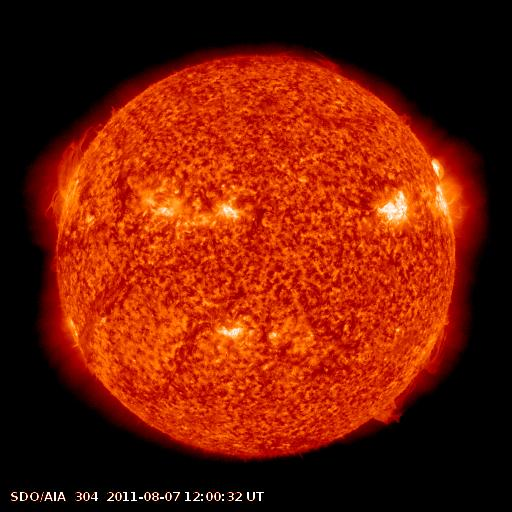prominence: (366, 303, 458, 428), (37, 121, 108, 228), (313, 48, 345, 80)
